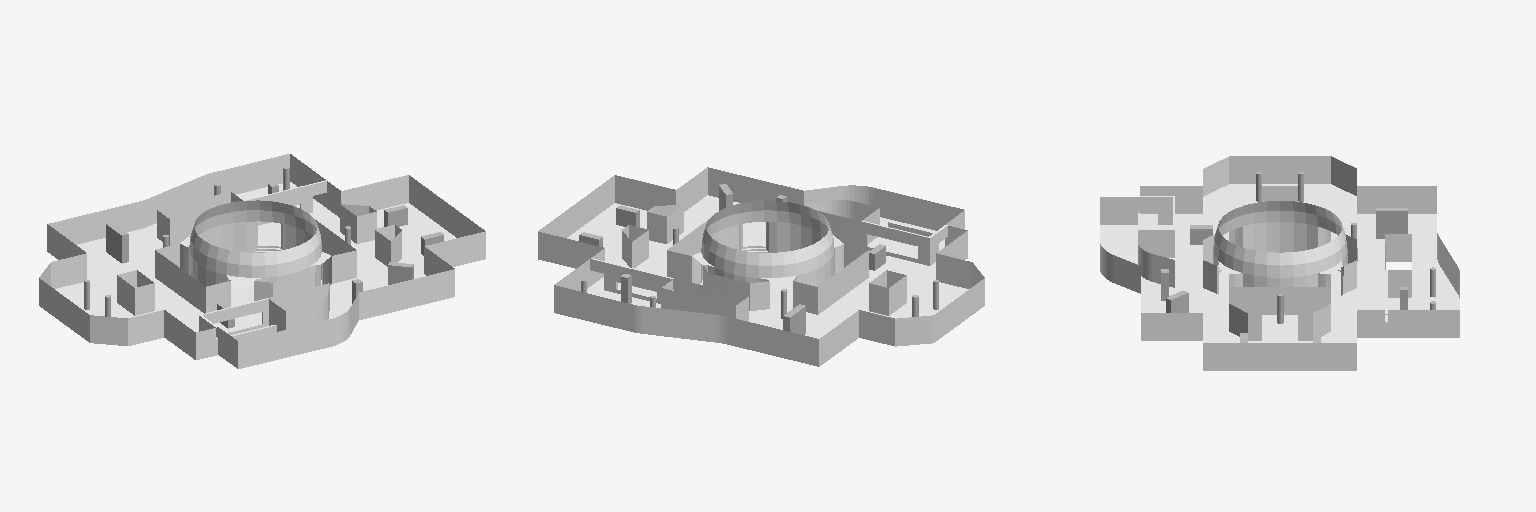
The model's file is NewMap.obj.
3 views of the same model, side by side, from view 1: azimuth 30°, elevation 25°; view 2: azimuth 150°, elevation 25°; view 3: azimuth 270°, elevation 25° (orthographic).
Visible parts, largest first — view 1: Map_Cylinder.002, Cube.004; view 2: Map_Cylinder.002, Cube.004; view 3: Map_Cylinder.002, Cube.004.
Part boxes in pixels (bbox=[...]): Map_Cylinder.002: bbox=[39, 154, 485, 368]; Cube.004: bbox=[106, 222, 128, 263]; Map_Cylinder.002: bbox=[538, 167, 984, 366]; Cube.004: bbox=[783, 304, 805, 334]; Map_Cylinder.002: bbox=[1100, 156, 1459, 370]; Cube.004: bbox=[1376, 208, 1407, 238].
Bounding box in the file's own units: 72.81 × 10.64 × 59.19.